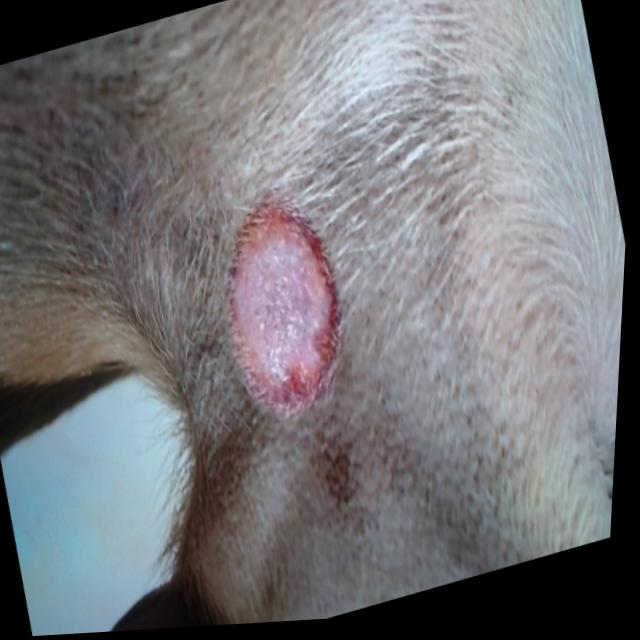ringworm: (192, 173, 377, 442)
